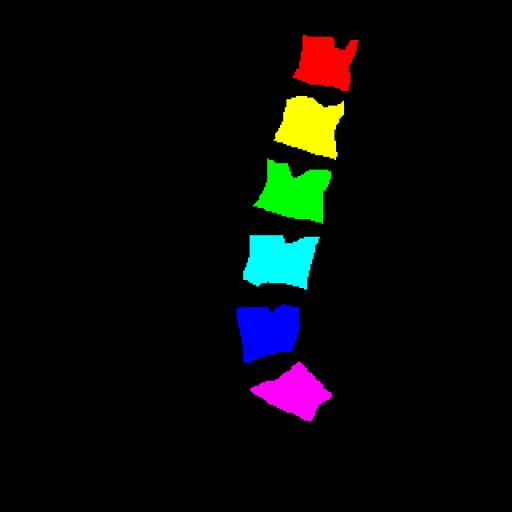L1: (293, 35, 358, 90)
L2: (274, 96, 344, 158)
L3: (254, 159, 331, 222)
L4: (244, 235, 318, 288)
L5: (237, 307, 298, 362)
S1: (250, 362, 332, 422)
